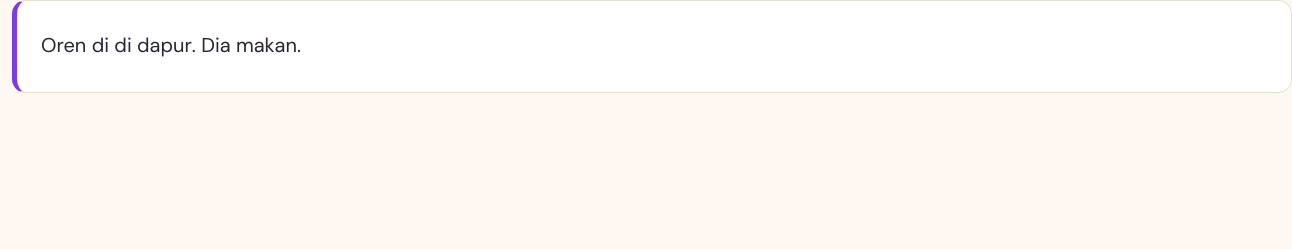
Test case: TeksKlik › mengirim indeks token dan menandai kata yang ketemu
Click the 1st button "di". click: coordinates (100, 46)
box: [92,25,109,68]
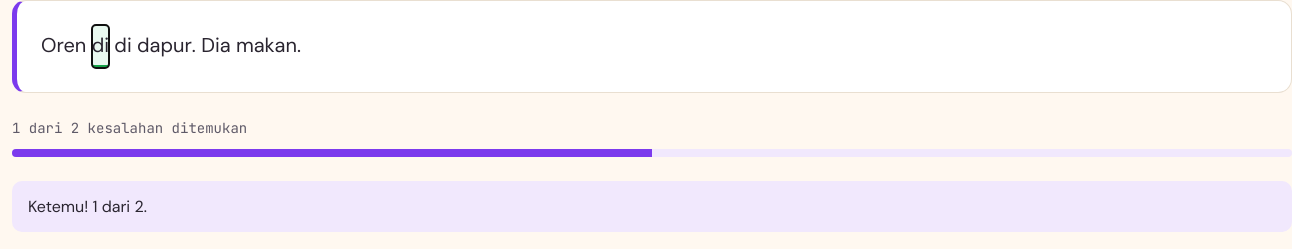
Result: the message reads "Ketemu! 1 dari 2." at [28,196,147,217]
